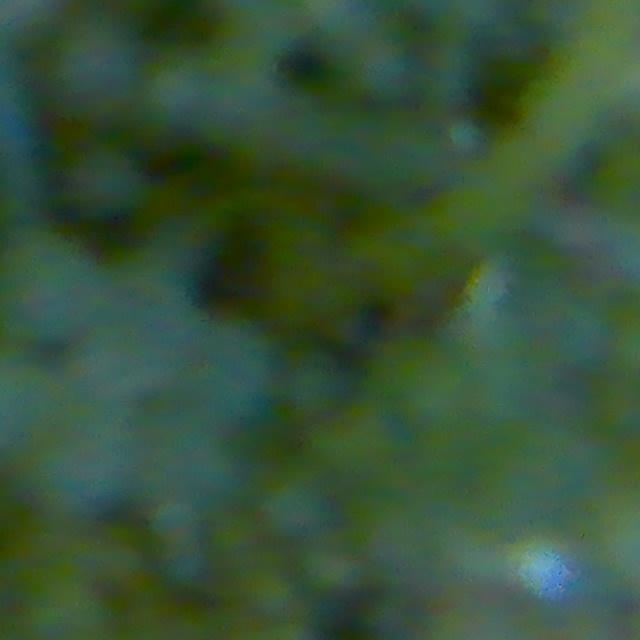SeaGrape: (0, 237, 109, 346), (50, 16, 145, 113), (67, 141, 148, 219)
